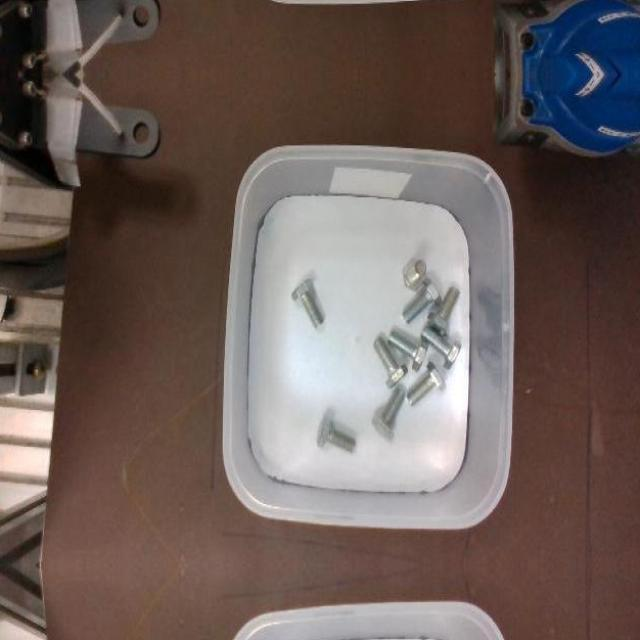screw: (402, 276, 442, 324), (373, 336, 409, 388), (407, 361, 447, 407), (420, 325, 461, 369), (372, 388, 406, 440), (387, 329, 428, 372), (290, 278, 323, 329), (427, 285, 460, 336), (316, 415, 355, 453), (402, 260, 426, 291)
